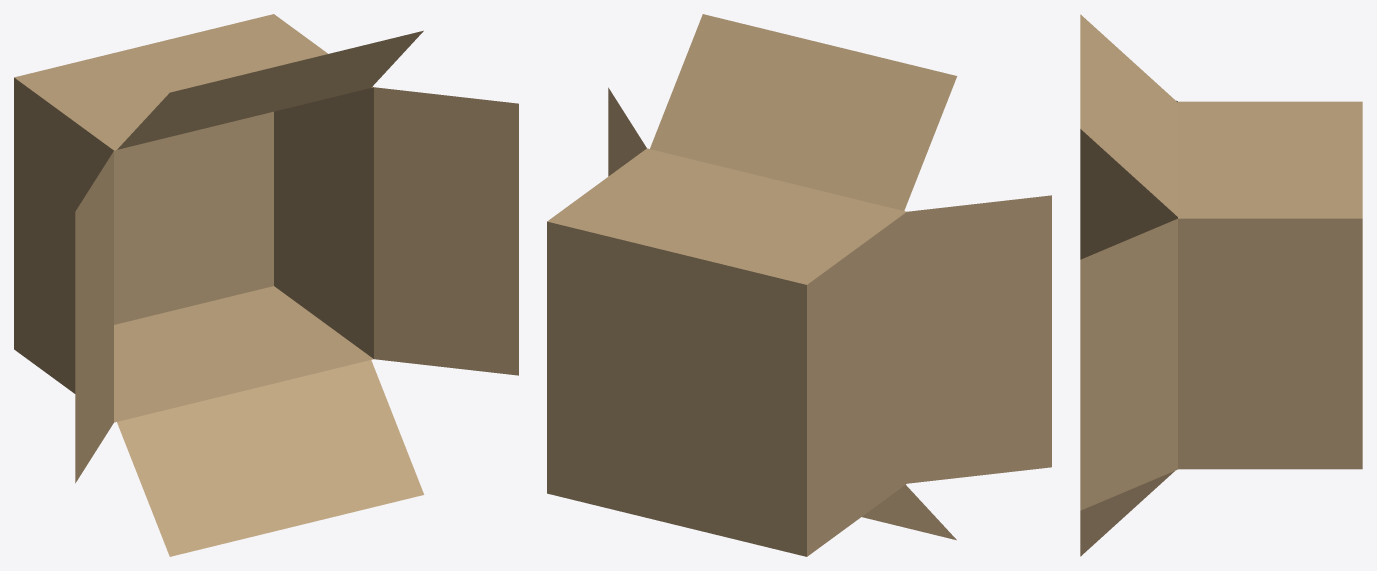
The picture shows the model from 3 angles, left to right: view 1: azimuth 30°, elevation 25°; view 2: azimuth 150°, elevation 25°; view 3: azimuth 270°, elevation 25°; orthographic projection. The views are drawn at different scales.
Parts seen in each view (by area): view 1: cardboard box; view 2: cardboard box; view 3: cardboard box.
Part boxes in pixels (bbox=[...]): cardboard box: bbox=[14, 14, 518, 556]; cardboard box: bbox=[547, 14, 1051, 556]; cardboard box: bbox=[1080, 14, 1362, 556].
Bounding box in the file's own units: 20.49 × 20.49 × 12.24.
